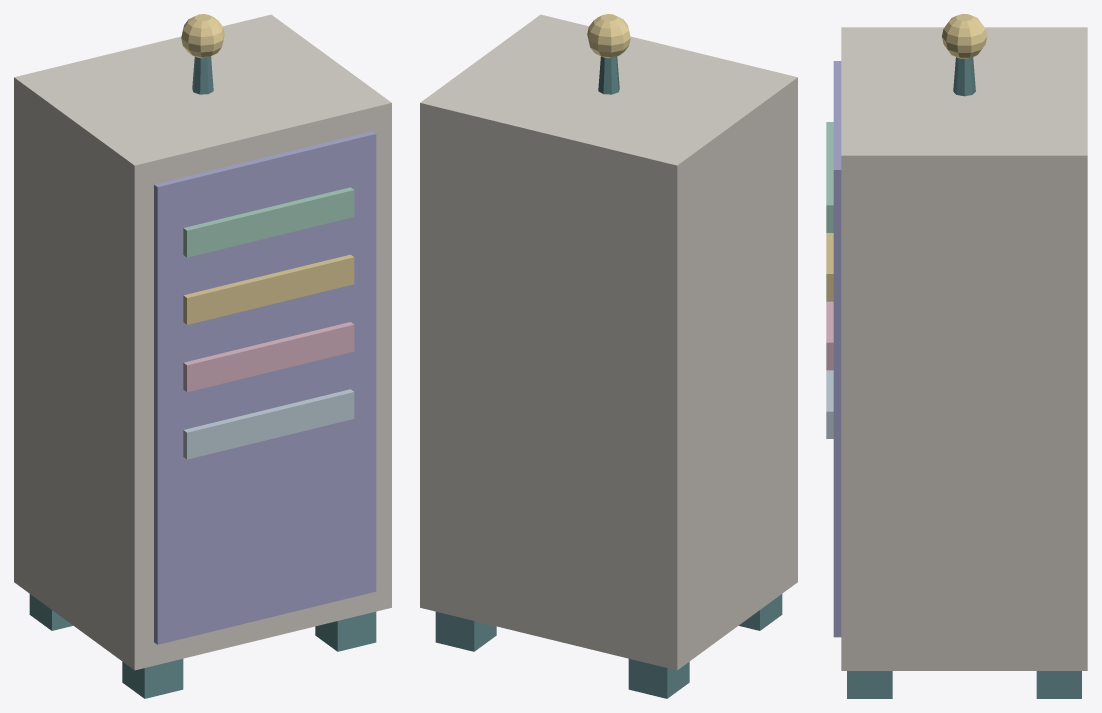
File: server_tower.glb
3 views of the same model, side by side, from view 1: azimuth 30°, elevation 25°; view 2: azimuth 150°, elevation 25°; view 3: azimuth 270°, elevation 25° (orthographic). The views are drawn at different scales.
Visible parts, largest first — view 1: server_tower; view 2: server_tower; view 3: server_tower.
Boxes of the visible parts, bbox=[...] form: server_tower: bbox=[14, 14, 391, 698]; server_tower: bbox=[420, 14, 797, 698]; server_tower: bbox=[826, 14, 1087, 698].
Bounding box in the file's own units: 0.8 × 1.82 × 0.69.
